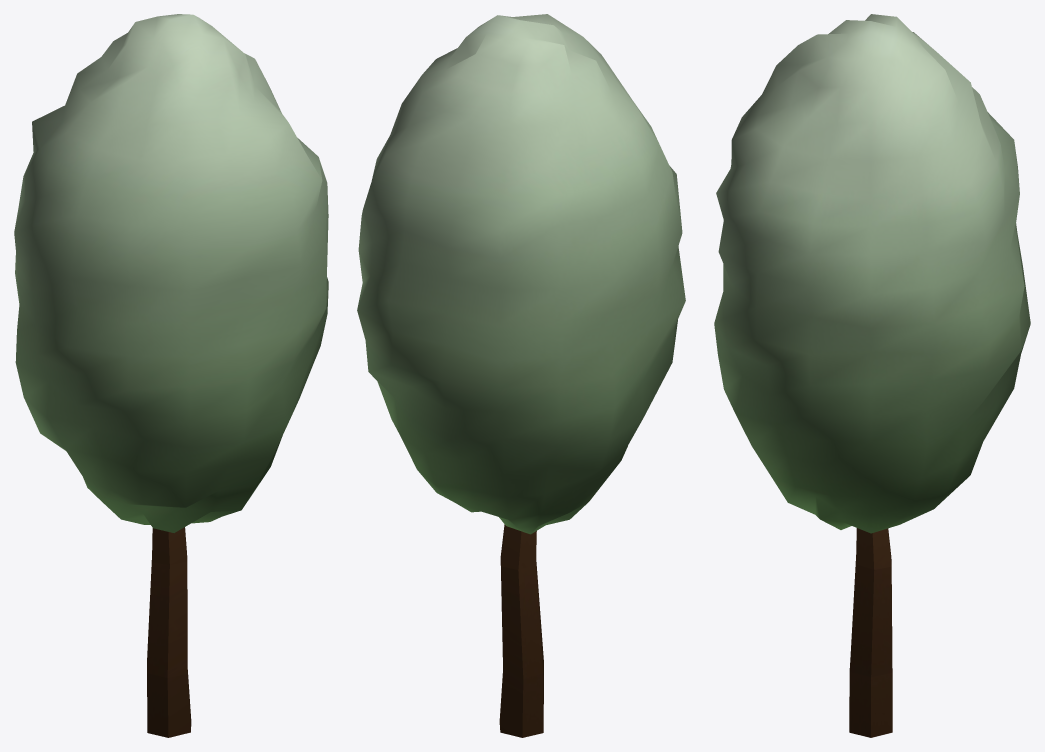
The model's file is Tree_leafs2.fbx.
3 views of the same model, side by side, from view 1: azimuth 30°, elevation 25°; view 2: azimuth 150°, elevation 25°; view 3: azimuth 270°, elevation 25° (orthographic).
Parts seen in each view (by area): view 1: Tree_leafs2; view 2: Tree_leafs2; view 3: Tree_leafs2.
Part boxes in pixels (left/top/right/bottom): Tree_leafs2: left=14, top=14, right=328, bottom=737; Tree_leafs2: left=357, top=14, right=685, bottom=737; Tree_leafs2: left=714, top=14, right=1030, bottom=737.
Bounding box in the file's own units: 14.76 × 35.54 × 14.42.
